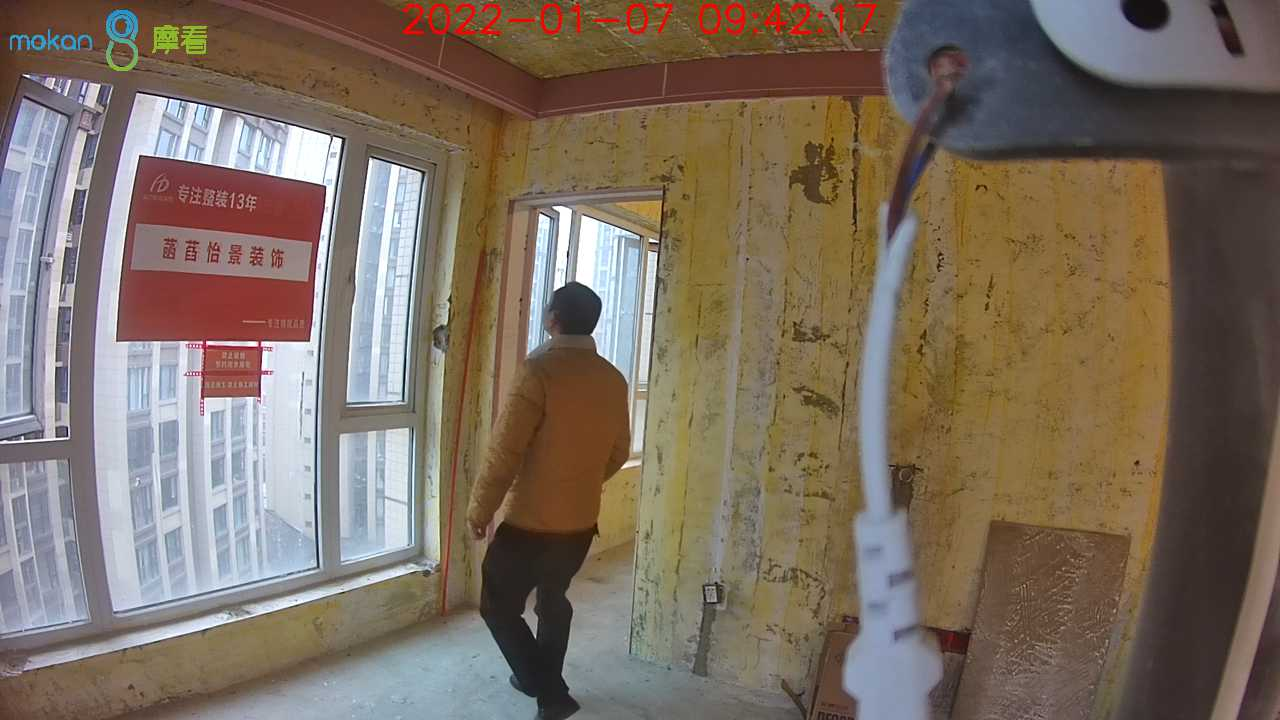people: (466, 282, 633, 720)
window: (1, 59, 437, 640), (535, 207, 656, 456)
